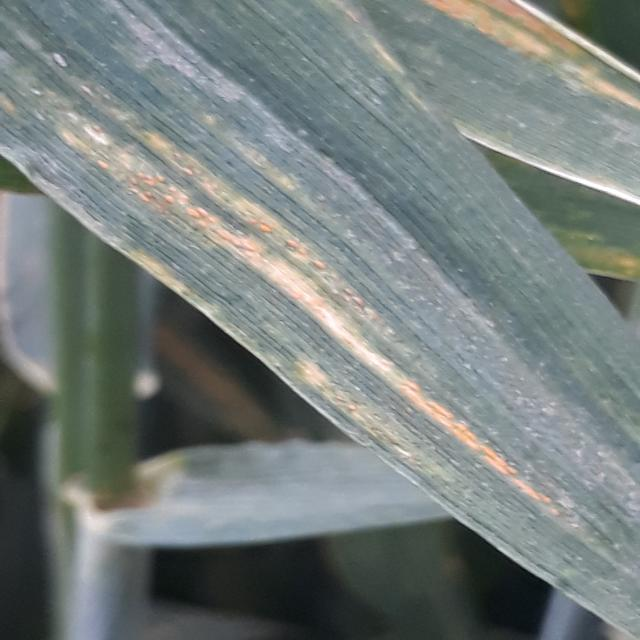yellow_rust: (6, 3, 640, 631)
